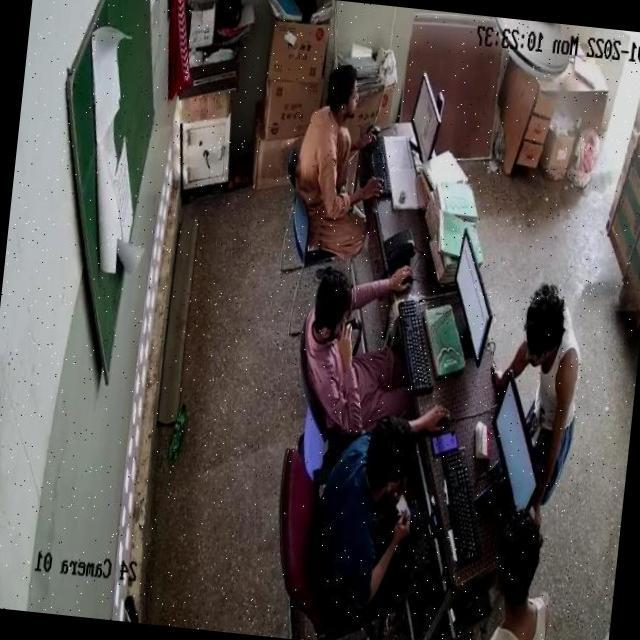person: (310, 414, 431, 608), (286, 259, 406, 429), (282, 74, 368, 256), (514, 283, 588, 472), (474, 514, 554, 640)
